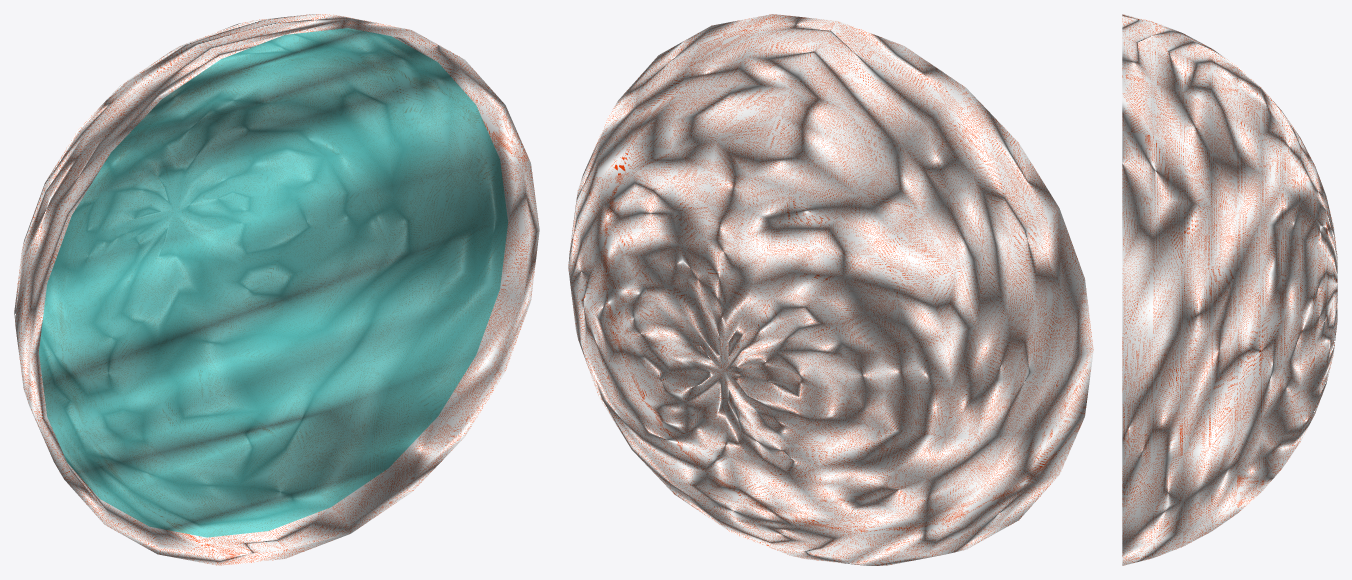
The model's file is model_align.obj.
3 renders of one model, left to right at view 1: azimuth 30°, elevation 25°; view 2: azimuth 150°, elevation 25°; view 3: azimuth 270°, elevation 25°, orthographic. The views are drawn at different scales.
Bounding box in the file's own units: 0.1468 × 0.1468 × 0.0571.
